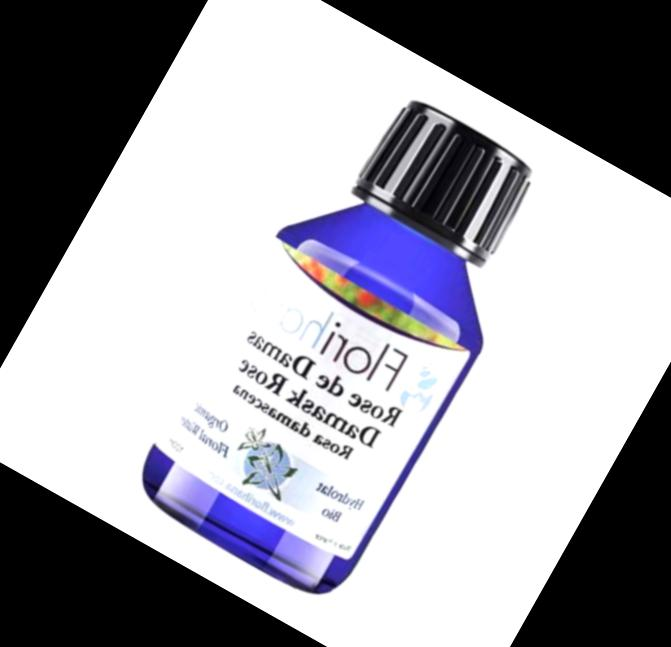cosmetic: (125, 65, 578, 610)
